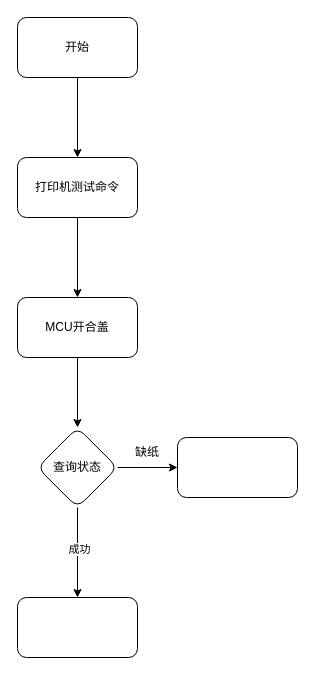
This 315x675 diagram has some shape labels left out. The shapes that lost their labels are listed below. From the top down, each one's centre as x and y in pixels, then its label:
the point at 237,467: 结束
the point at 77,627: 相机检查
